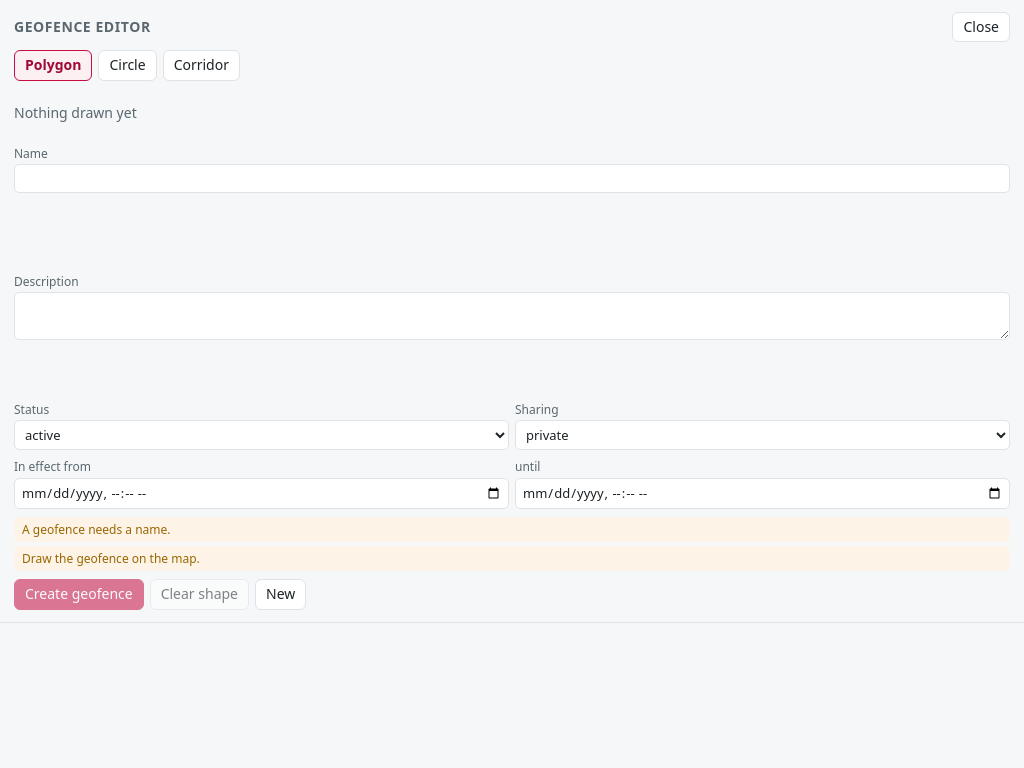
Test: GeofenceEditor › turns a drawn circle into a centre and a radius, and keeps the ring out of the way
Click the button "Circle". click: (128,65)
box: [98, 50, 157, 81]
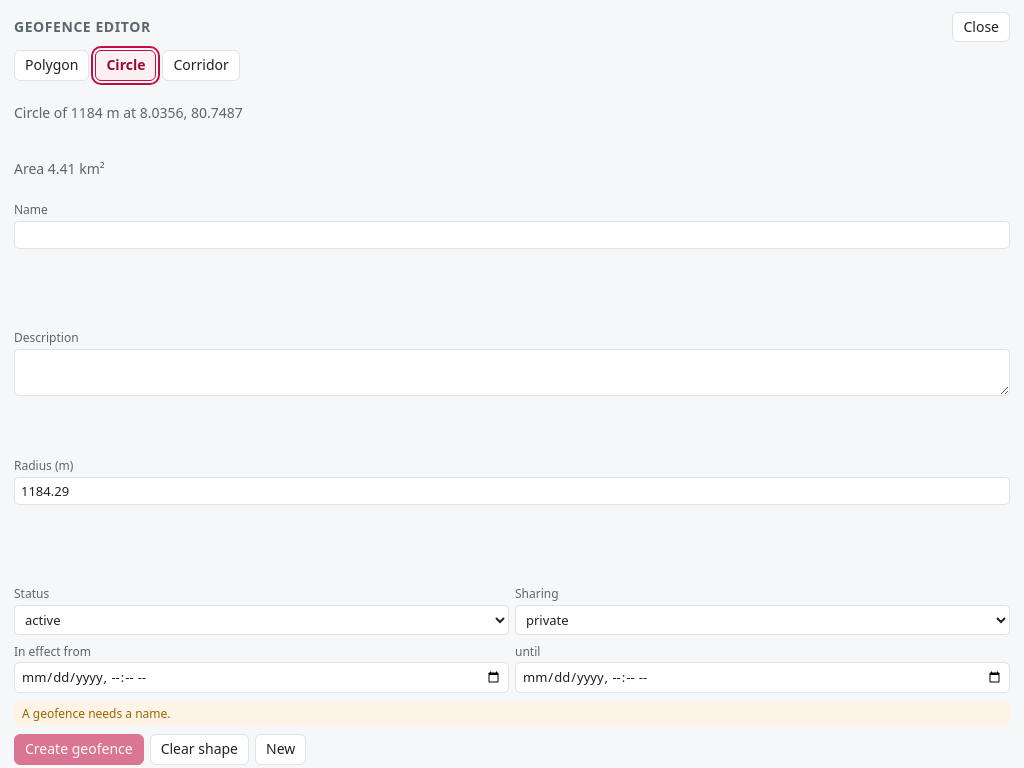
Now the list item "Draw the geofence on the map." is gone
